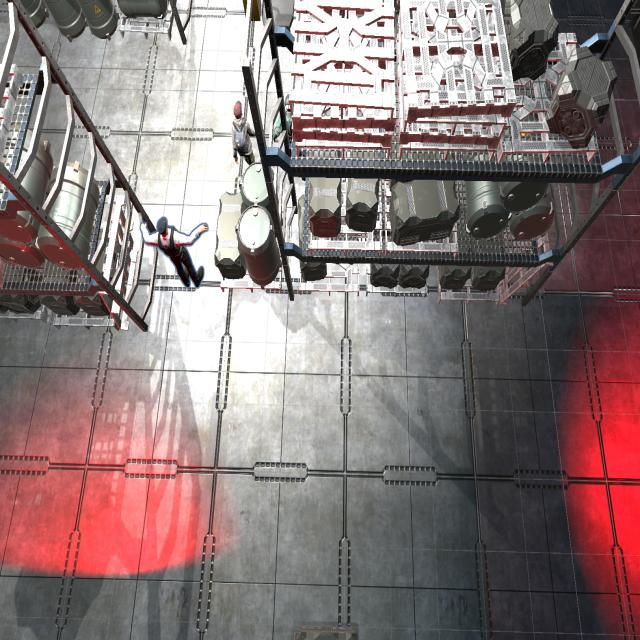thiefs: (229, 98, 258, 168)
